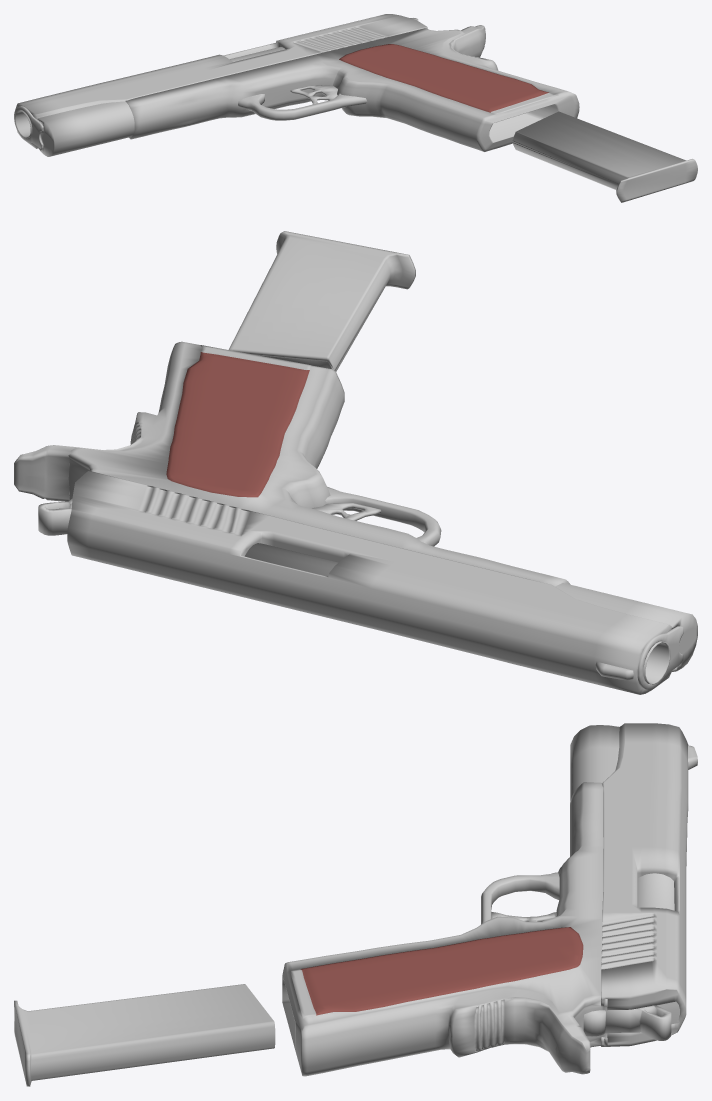
Rendered from Pistol_Unwrapp_V2.fbx.
3 views of the same model, one above another, from view 1: azimuth 30°, elevation 25°; view 2: azimuth 150°, elevation 25°; view 3: azimuth 270°, elevation 25° (orthographic). The views are drawn at different scales.
Visible parts, largest first — view 1: Handle, Slider, AmmoClip, Berral, Trigger; view 2: Slider, Handle, AmmoClip, Berral, Hammer; view 3: Handle, Slider, AmmoClip, Hammer, Berral.
Part boxes in pixels (box(x1,y1,x2,y2)): Handle: box(37, 25, 579, 156); Slider: box(14, 14, 427, 148); AmmoClip: box(512, 111, 697, 202); Berral: box(14, 47, 285, 138); Trigger: box(290, 85, 337, 104); Slider: box(67, 470, 683, 694); Handle: box(14, 341, 697, 671); AmmoClip: box(228, 231, 415, 371); Berral: box(245, 543, 670, 684); Hammer: box(38, 498, 72, 535); Handle: box(282, 725, 679, 1076); Slider: box(601, 723, 697, 1046); AmmoClip: box(14, 984, 275, 1086); Hammer: box(583, 1005, 671, 1040); Berral: box(637, 873, 674, 910).
Size of the model in its own units: 107 by 8.08 by 93.87.
